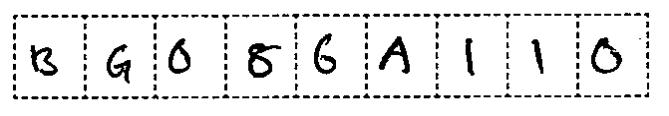0: (587, 31, 627, 80), (164, 34, 198, 81)
1: (451, 29, 485, 80), (519, 34, 556, 80)
6: (306, 31, 343, 78)
8: (241, 38, 286, 85)
A: (377, 30, 416, 80)
B: (26, 39, 60, 81)
G: (102, 41, 138, 88)
